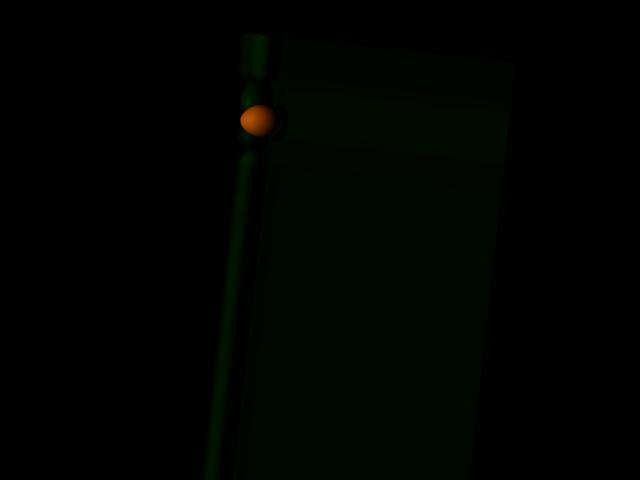egg: (239, 101, 285, 139)
